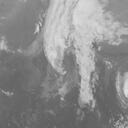cyclone: (41, 18, 100, 111), (115, 70, 127, 108)
